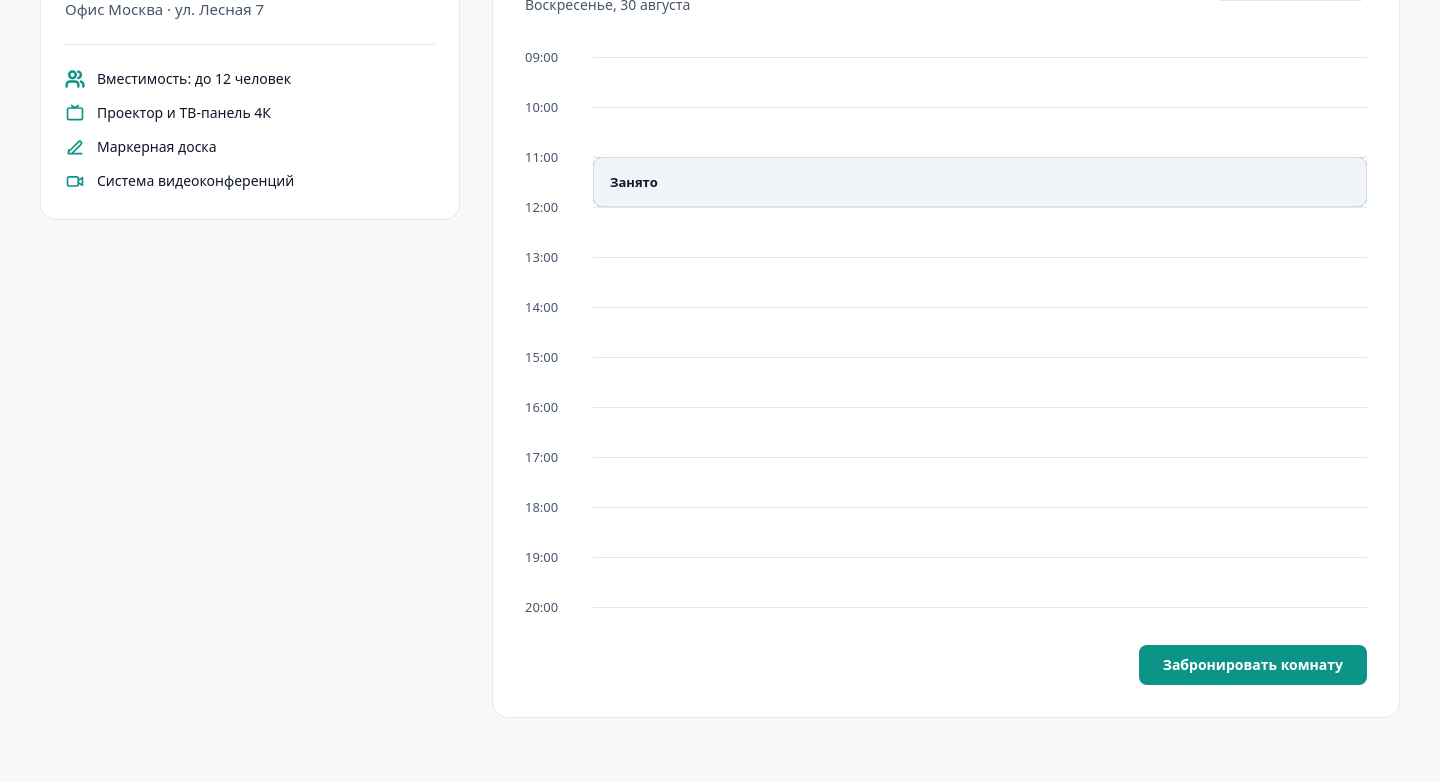
it: RoomPage › открывает форму бронирования с интервалом из URL
This screenshot has width=1440, height=782.
(page scrolled)
What coordinates should you click on to do the following:
click the button "Забронировать комнату"
I would click on:
 (1253, 665)
Its box is [1139,645,1367,685].
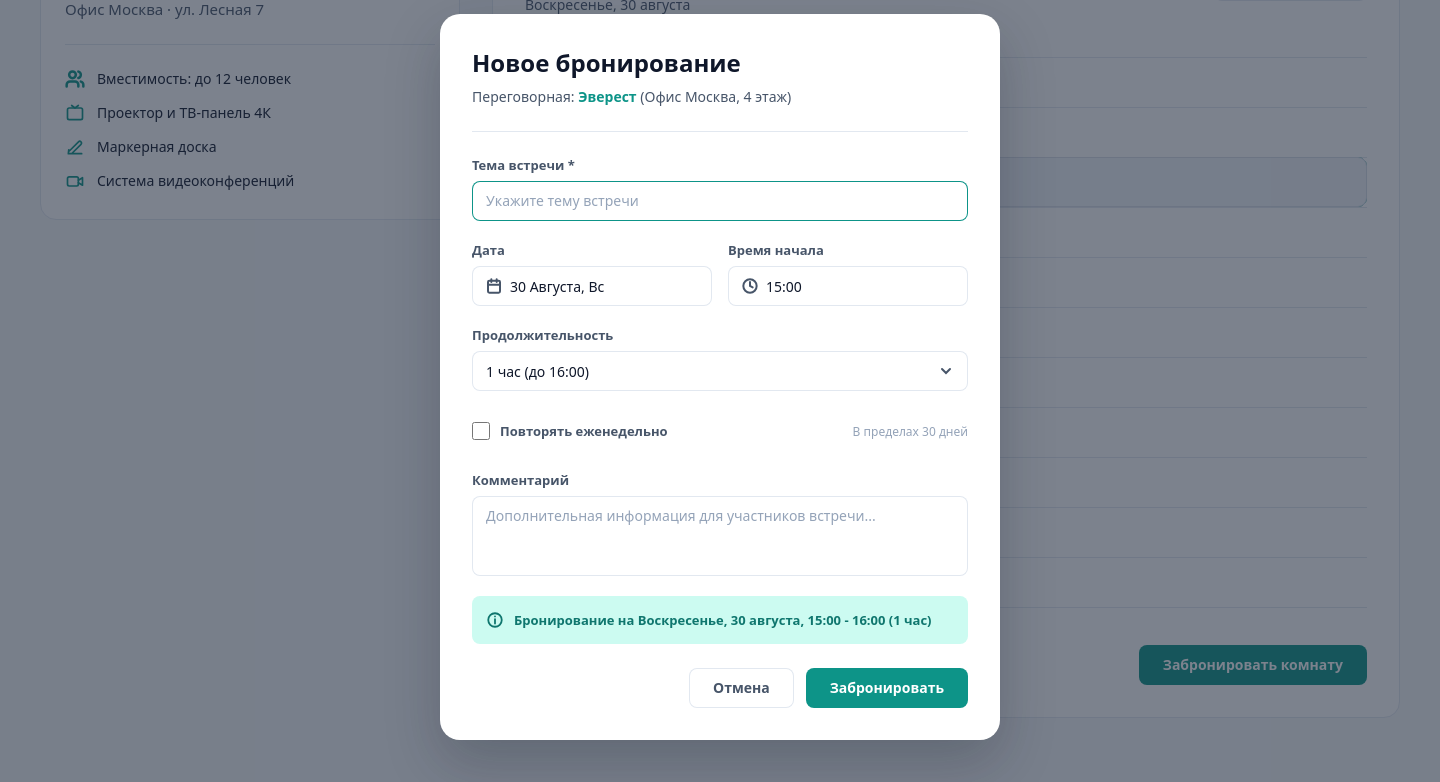
Now the dialog "Новое бронирование" shows "Переговорная: Эверест (Офис Москва, 4 этаж)", box [440,14,1000,740]
Now the button with aria-label "Дата бронирования" reads "30 Августа, Вс", box [472,266,712,306]
Now the field named "Время начала" holds "15:00", box [766,276,954,296]
